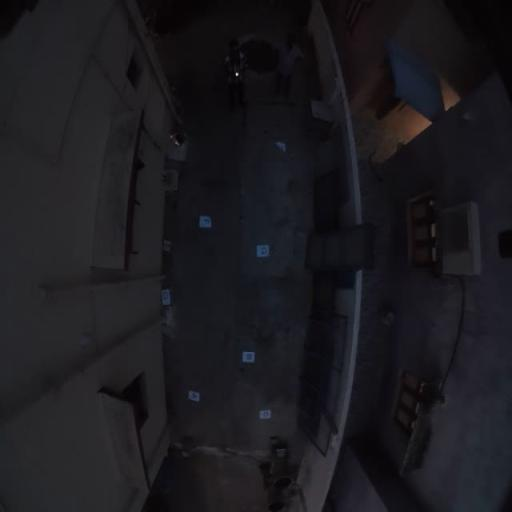A: (189, 390, 200, 401)
B: (242, 351, 254, 363)
C: (259, 410, 271, 419)
D: (162, 288, 171, 306)
F: (199, 217, 211, 228)
G: (256, 244, 270, 257)
